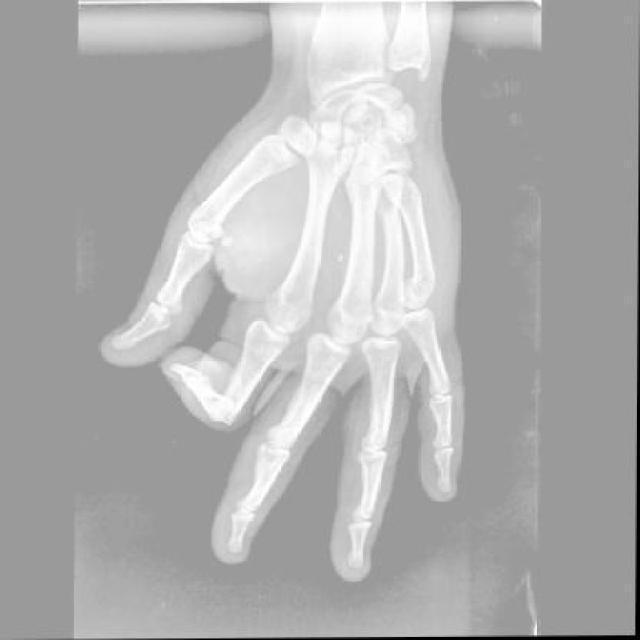Fracture: (403, 270, 437, 307)
